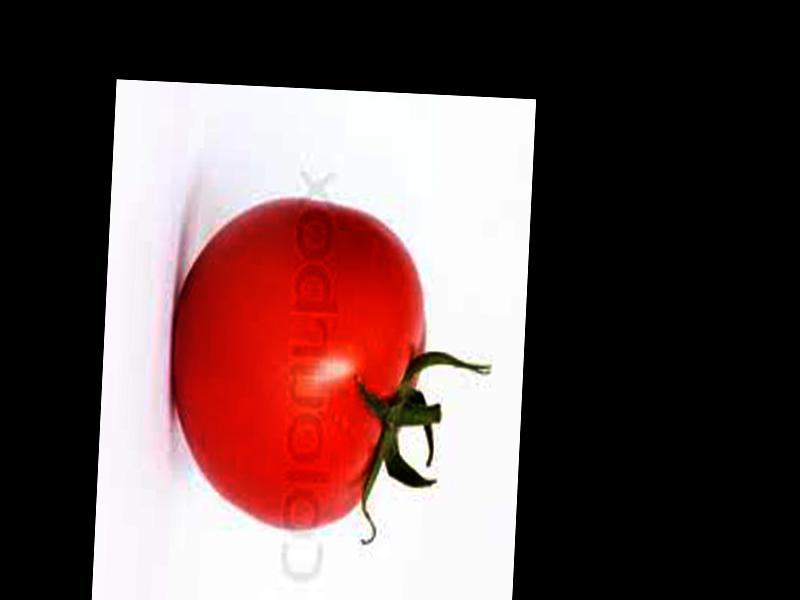Tomato: (167, 194, 432, 532)
